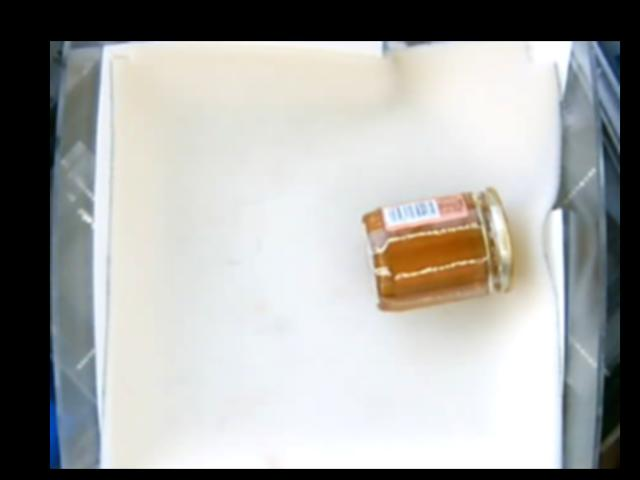Bottle: (365, 187, 518, 311)
